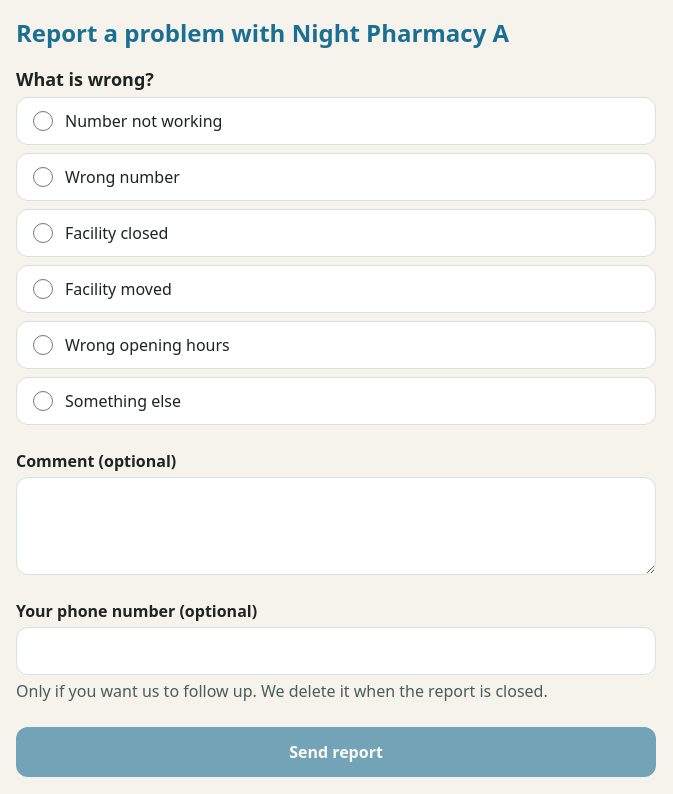
Scenario: the report page › sends in two taps: a reason, then Send
The image size is (673, 794).
Expected: the heading "Report a problem with Night Pharmacy A" is shown, 16,16 -> 509,49
Click the radio button labelled "Facility closed" at (43, 233), box 33,223 -> 53,243
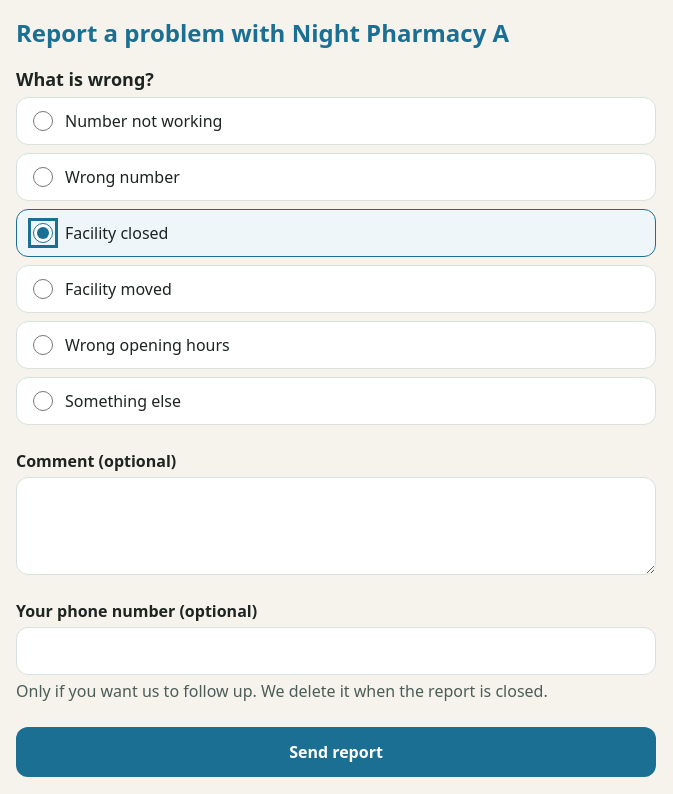
Click the button "Send report" at (336, 752), box 16,727 -> 656,777
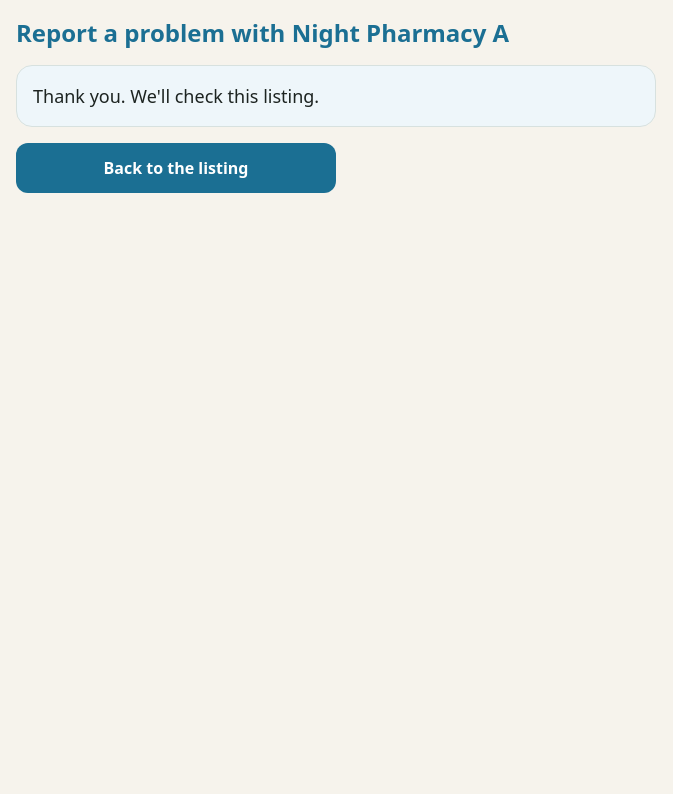
Now the text "Thank you. We'll check this listing." is shown, box 16,65 -> 656,127
